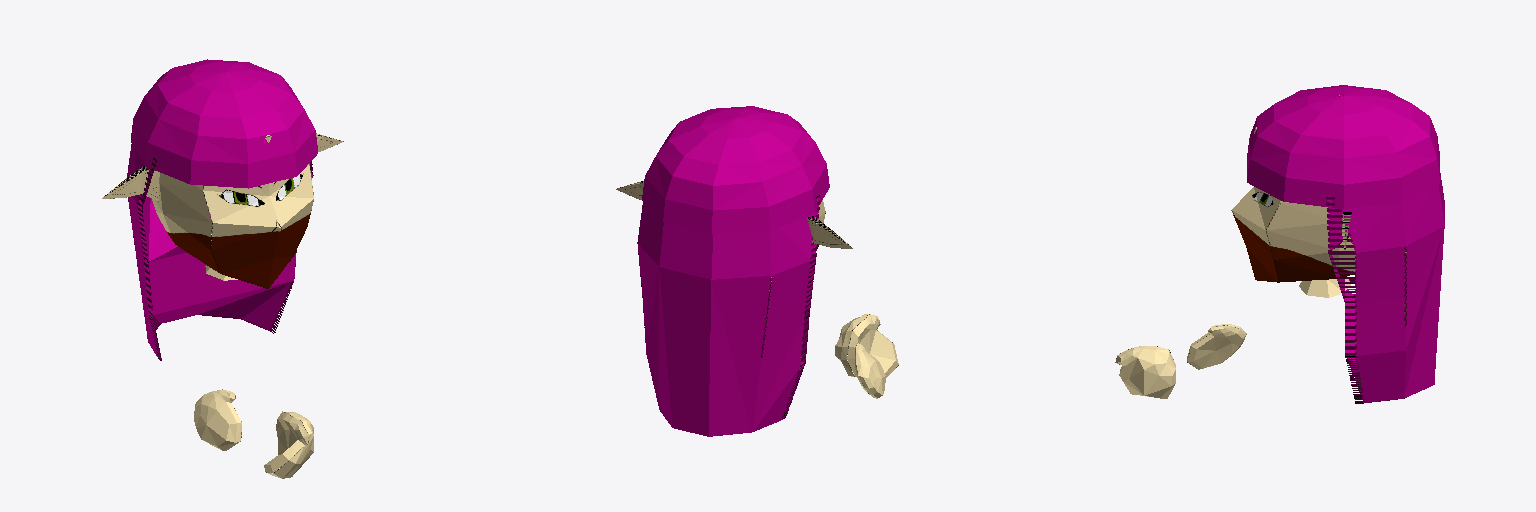
The picture shows the model from 3 angles: view 1: azimuth 30°, elevation 25°; view 2: azimuth 150°, elevation 25°; view 3: azimuth 270°, elevation 25°; orthographic projection.
Parts seen in each view (by area): view 1: pasted__pasted__pasted__pSphere1; view 2: pasted__pasted__pasted__pSphere1; view 3: pasted__pasted__pasted__pSphere1.
Part boxes in pixels (bbox=[...]): pasted__pasted__pasted__pSphere1: bbox=[102, 59, 343, 478]; pasted__pasted__pasted__pSphere1: bbox=[616, 106, 898, 436]; pasted__pasted__pasted__pSphere1: bbox=[1115, 85, 1444, 403].
Size of the model in its own units: 2.82 by 3.59 by 3.33.
1 materials, 1 textured.